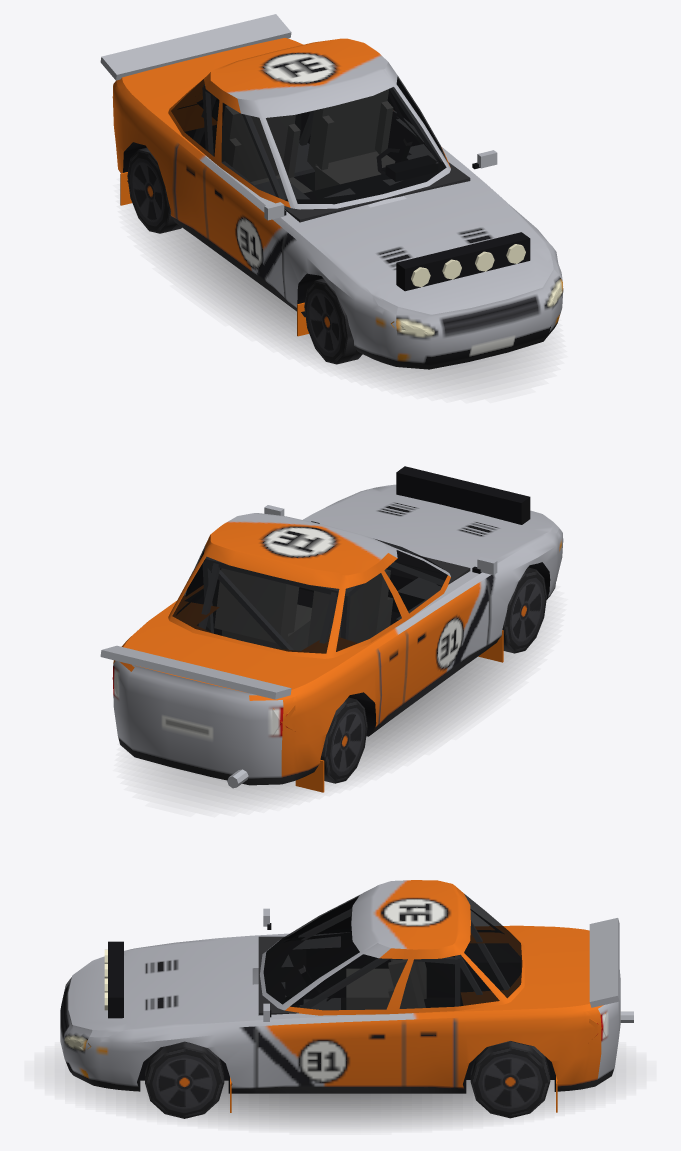
File: candeia.glb
The picture shows the model from 3 angles, top to bottom: view 1: azimuth 30°, elevation 25°; view 2: azimuth 150°, elevation 25°; view 3: azimuth 270°, elevation 25°; orthographic projection. The views are drawn at different scales.
Parts seen in each view (by area): view 1: Carroceria, Capo_malha, Interior, Porta_D_malha, Sombra, Tampa_malha, Porta_TD_malha, Roda_DD, Roda_TD, Porta_E_malha; view 2: Carroceria, Interior, Capo_malha, Sombra, Porta_D_malha, Tampa_malha, Porta_TD_malha, Roda_TD, Roda_DD; view 3: Carroceria, Porta_E_malha, Interior, Capo_malha, Sombra, Porta_TE_malha, Tampa_malha, Roda_TE, Roda_DE, Porta_D_malha.
Part boxes in pixels (box(x1,y1,x2,y2)): Carroceria: box(112, 38, 563, 369); Capo_malha: box(306, 189, 558, 314); Interior: box(179, 85, 470, 222); Porta_D_malha: box(204, 94, 294, 297); Sombra: box(145, 226, 537, 387); Tampa_malha: box(100, 14, 302, 99); Porta_TD_malha: box(174, 72, 228, 237); Roda_DD: box(304, 278, 362, 364); Roda_TD: box(127, 147, 181, 233); Porta_E_malha: box(384, 62, 497, 170); Carroceria: box(112, 489, 563, 792); Interior: box(177, 521, 470, 650); Capo_malha: box(309, 466, 558, 563); Sombra: box(143, 640, 535, 801); Porta_D_malha: box(382, 545, 497, 702); Tampa_malha: box(100, 630, 319, 700); Porta_TD_malha: box(344, 559, 407, 723); Roda_TD: box(320, 697, 367, 783); Roda_DD: box(502, 567, 546, 653); Carroceria: box(60, 880, 633, 1112); Porta_E_malha: box(256, 943, 403, 1087); Interior: box(148, 909, 520, 1058); Capo_malha: box(73, 939, 240, 1037); Sombra: box(65, 1062, 615, 1126); Porta_TE_malha: box(404, 944, 454, 1086); Tampa_malha: box(540, 918, 619, 1011); Roda_TE: box(470, 1041, 550, 1118); Roda_DE: box(145, 1041, 224, 1118); Porta_D_malha: box(263, 885, 377, 938).
Size of the model in its own units: 2.36 by 1.35 by 4.93.
14 materials, 5 textured.
